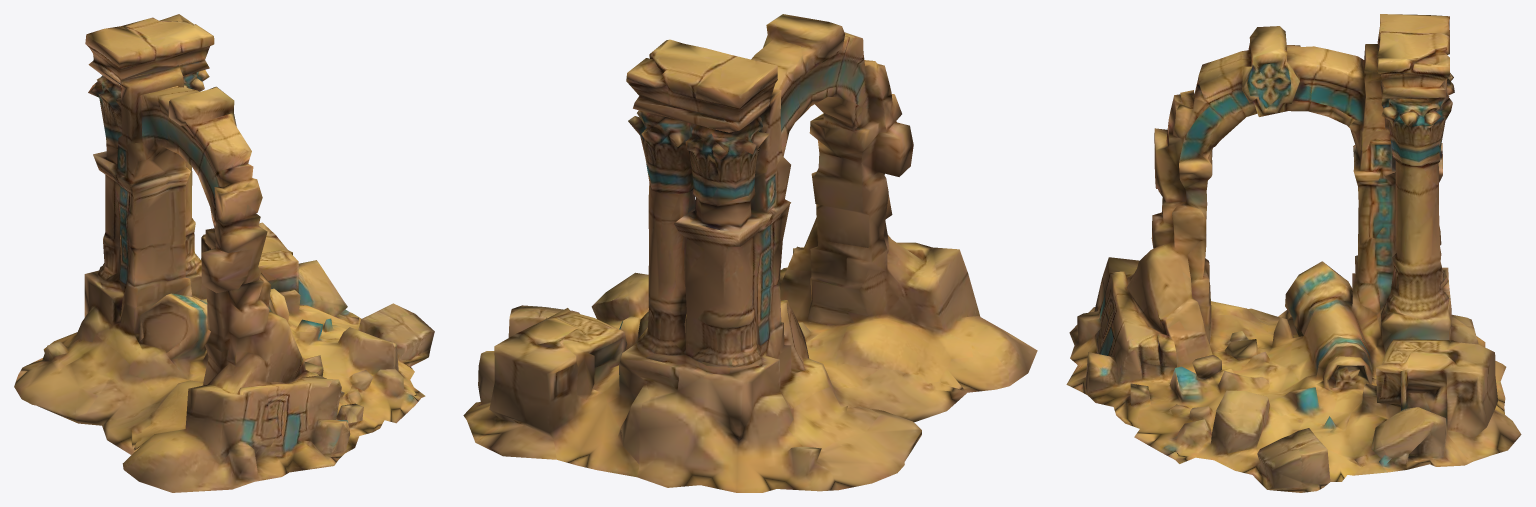
Rendered from ruin.glb.
3 views of the same model, side by side, from view 1: azimuth 30°, elevation 25°; view 2: azimuth 150°, elevation 25°; view 3: azimuth 270°, elevation 25° (orthographic). The views are drawn at different scales.
Visible parts, largest first — view 1: tripo_node_04182c70-e481-4c81-a30e-08d5fdc94120; view 2: tripo_node_04182c70-e481-4c81-a30e-08d5fdc94120; view 3: tripo_node_04182c70-e481-4c81-a30e-08d5fdc94120.
Part boxes in pixels (bbox=[...]): tripo_node_04182c70-e481-4c81-a30e-08d5fdc94120: bbox=[14, 14, 434, 492]; tripo_node_04182c70-e481-4c81-a30e-08d5fdc94120: bbox=[463, 14, 1037, 492]; tripo_node_04182c70-e481-4c81-a30e-08d5fdc94120: bbox=[1066, 14, 1521, 492].
Bounding box in the file's own units: 0.9721 × 0.8327 × 0.9949.
1 material, 1 textured.
